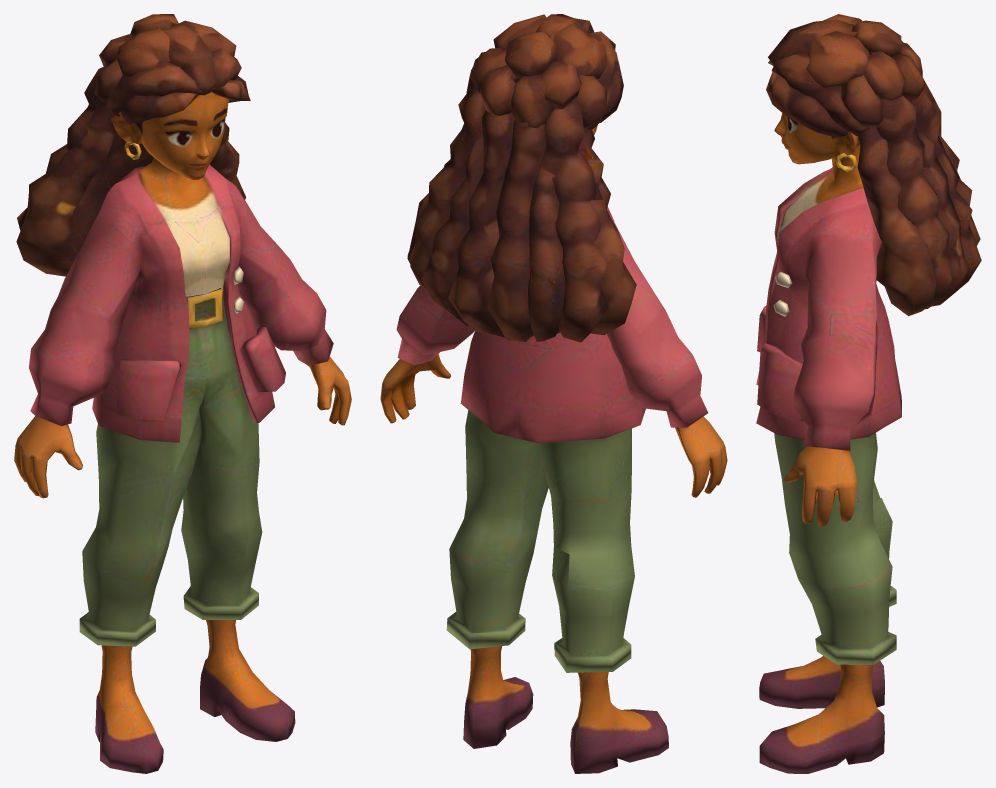
The model's file is Braided_Rose_Confiden.glb.
3 views of the same model, side by side, from view 1: azimuth 30°, elevation 25°; view 2: azimuth 150°, elevation 25°; view 3: azimuth 270°, elevation 25° (orthographic). The views are drawn at different scales.
Parts seen in each view (by area): view 1: geometry_0; view 2: geometry_0; view 3: geometry_0.
Boxes of the visible parts, <box> form: geometry_0: <box>14,14,351,773</box>; geometry_0: <box>380,14,727,773</box>; geometry_0: <box>756,14,981,773</box>.
Size of the model in its own units: 0.4814 by 0.9978 by 0.2899.
Materials: 1 (1 with a texture image).
